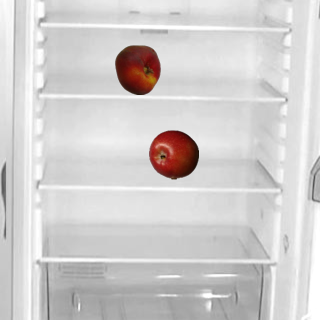Apple Braeburn: (148, 129, 198, 179)
Nectarine Flat: (112, 44, 162, 94)
